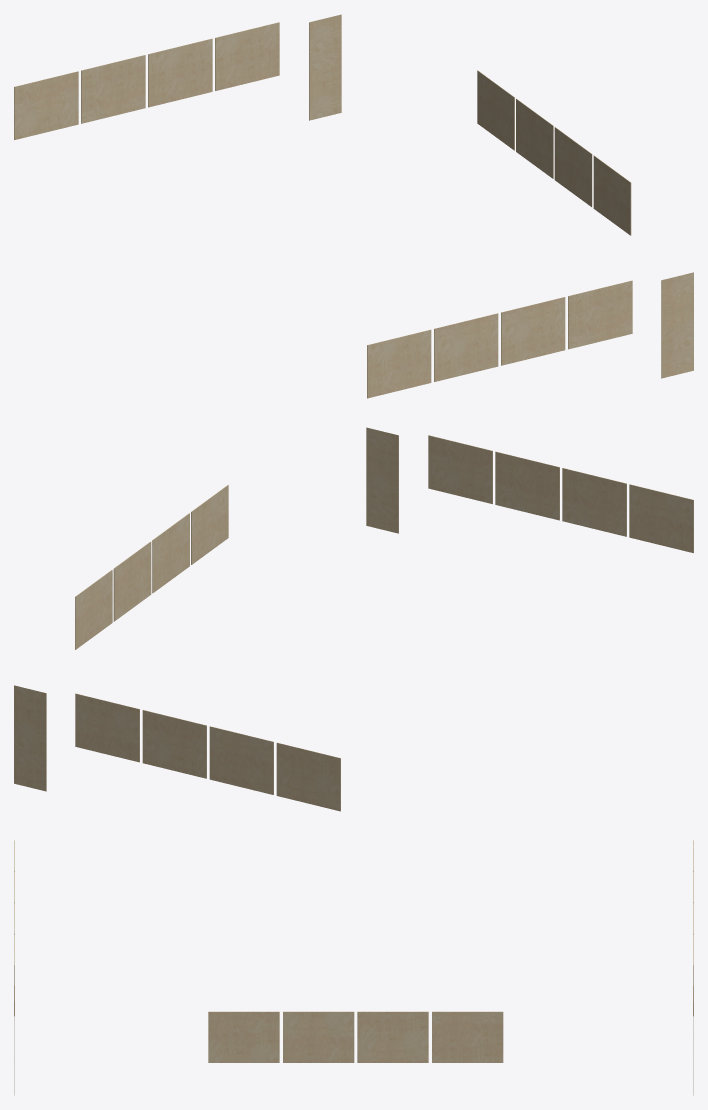
3 renders of one model, top to bottom at view 1: azimuth 30°, elevation 25°; view 2: azimuth 150°, elevation 25°; view 3: azimuth 270°, elevation 25°, orthographic. The views are drawn at different scales.
Visible parts, largest first — view 1: base_link; view 2: base_link; view 3: base_link.
Part boxes in pixels (left/top/right/bottom): base_link: left=14, top=14, right=693, bottom=398; base_link: left=14, top=427, right=693, bottom=811; base_link: left=14, top=840, right=693, bottom=1095.
Size of the model in its own units: 6.46 by 10.83 by 1.78.
Materials: 1 (1 with a texture image).
